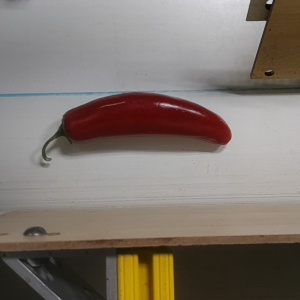Cut Point: (52, 107, 86, 147)
